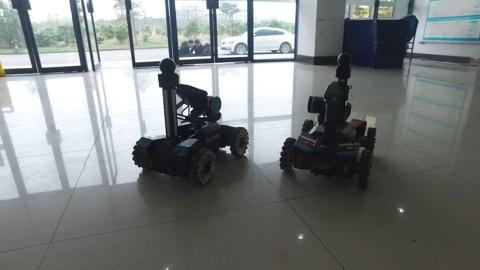chariot: (116, 54, 260, 187), (272, 48, 390, 198)
